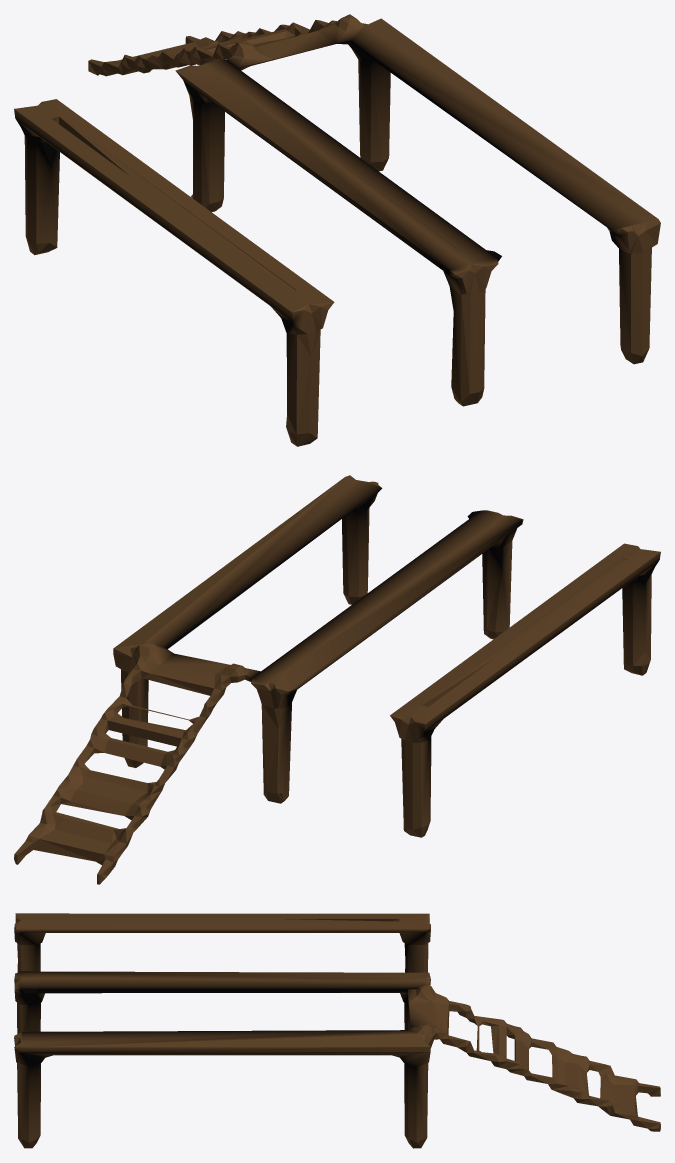
File: Wooden Platforms(1).glb
The picture shows the model from 3 angles, top to bottom: view 1: azimuth 30°, elevation 25°; view 2: azimuth 150°, elevation 25°; view 3: azimuth 270°, elevation 25°; orthographic projection. The views are drawn at different scales.
Parts seen in each view (by area): view 1: Root; view 2: Root; view 3: Root.
Boxes of the visible parts, x1,y1,x2,y2 form: Root: [14, 14, 660, 446]; Root: [14, 475, 660, 884]; Root: [14, 913, 660, 1148].
Size of the model in its own units: 3.48 by 1.38 by 7.05.
